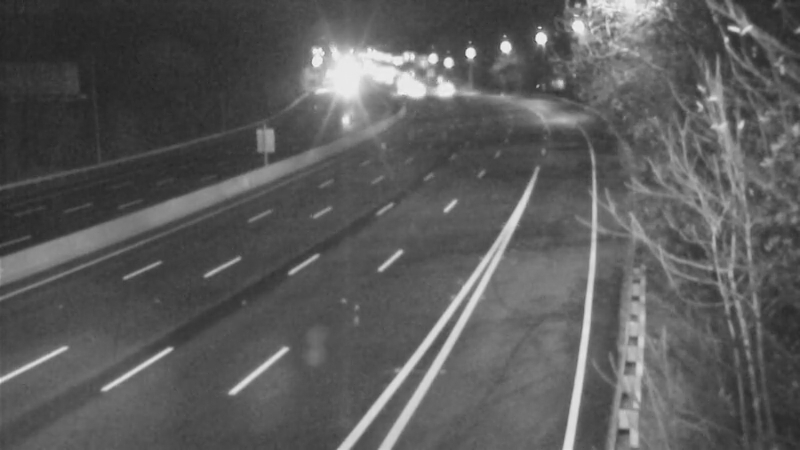vehicle: (423, 64, 473, 114), (373, 66, 423, 116), (388, 66, 438, 116)
